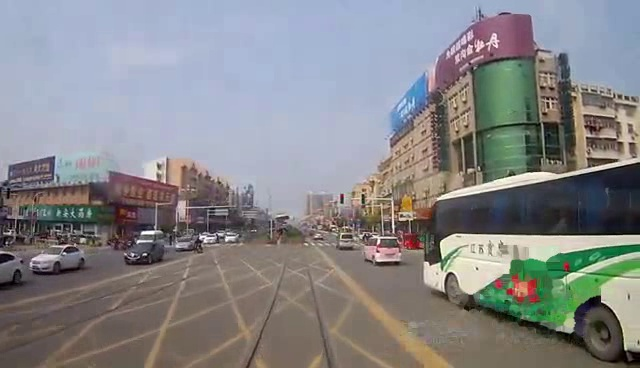bus: (418, 157, 640, 362)
car: (30, 240, 89, 279), (361, 233, 406, 266), (123, 240, 169, 268)
